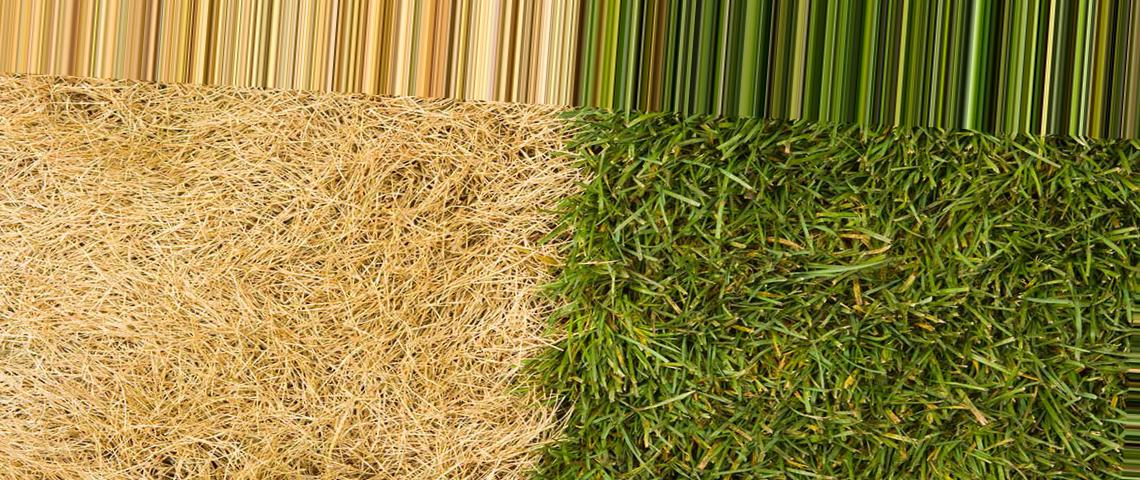patch: (47, 87, 493, 470)
